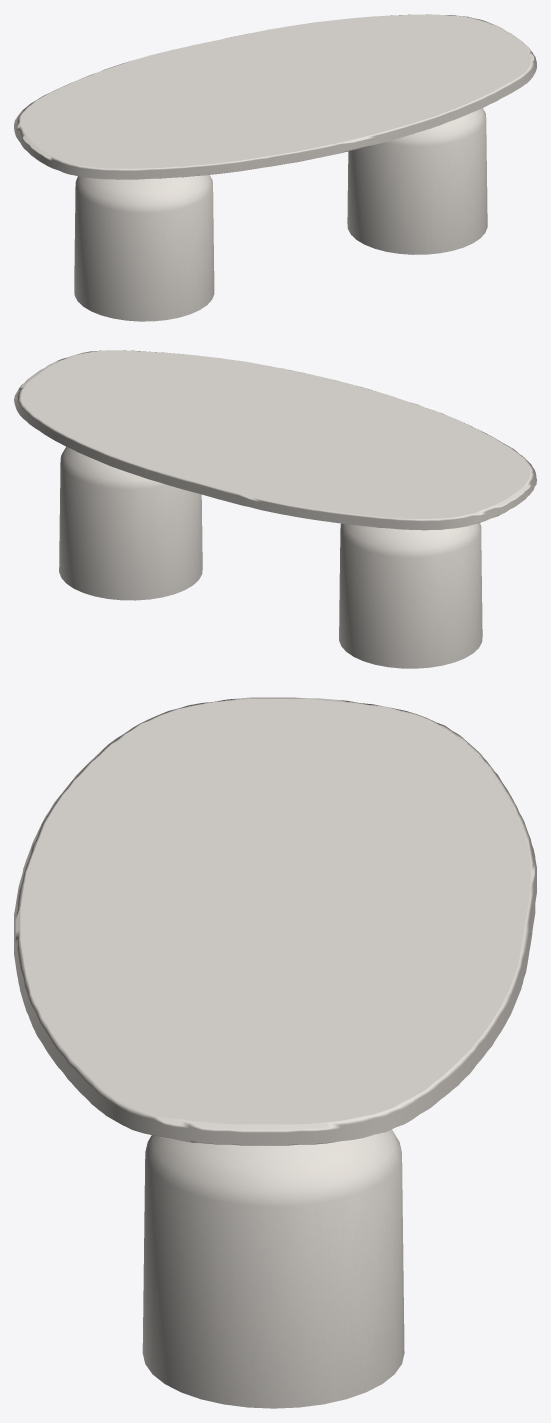
The model's file is pearlwhite_danish_round_tornado.glb.
3 renders of one model, top to bottom at view 1: azimuth 30°, elevation 25°; view 2: azimuth 150°, elevation 25°; view 3: azimuth 270°, elevation 25°, orthographic. The views are drawn at different scales.
Visible parts, largest first — view 1: round_danish, tornado; view 2: round_danish, tornado; view 3: round_danish, tornado.
Boxes of the visible parts, bbox=[...] form: round_danish: bbox=[14, 14, 536, 179]; tornado: bbox=[74, 108, 487, 321]; round_danish: bbox=[14, 350, 536, 530]; tornado: bbox=[59, 446, 482, 668]; round_danish: bbox=[14, 697, 536, 1145]; tornado: bbox=[142, 1129, 404, 1408].
Size of the model in its own units: 7.5 by 2.5 by 3.8.
1 material, 1 textured.
